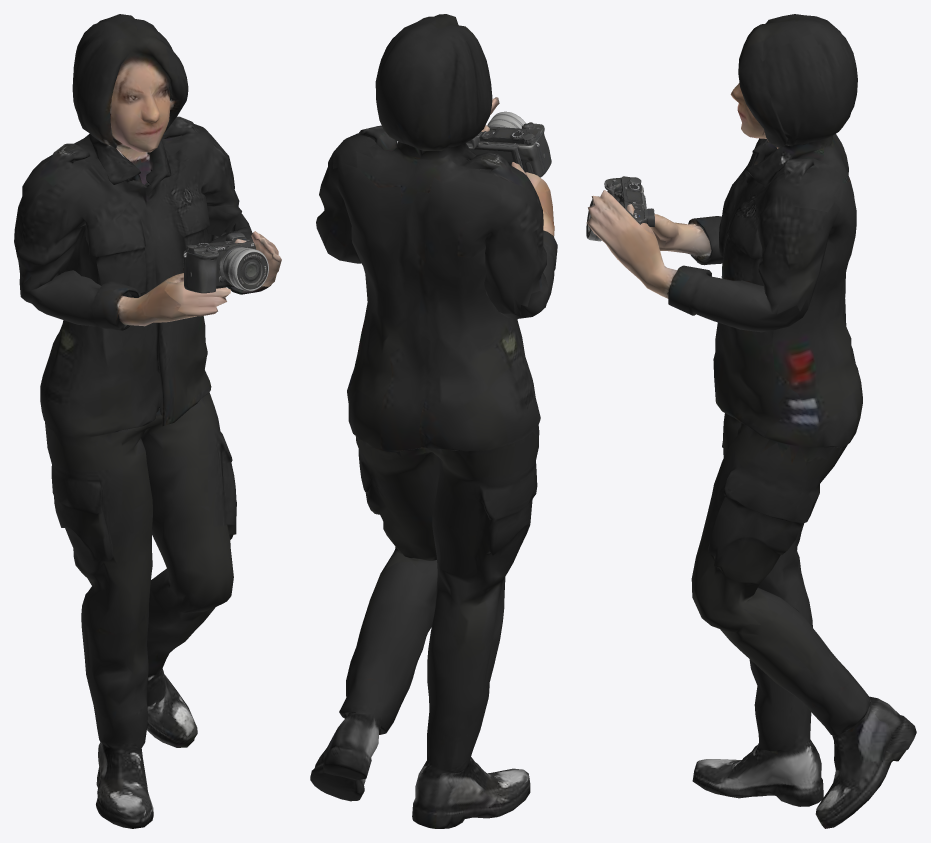
Rendered from polwan_humas_idle.glb.
The picture shows the model from 3 angles, left to right: view 1: azimuth 30°, elevation 25°; view 2: azimuth 150°, elevation 25°; view 3: azimuth 270°, elevation 25°; orthographic projection. The views are drawn at different scales.
Parts seen in each view (by area): view 1: tripo_node_a2126b0e-582a-493f-b6e2-f8663286ce1a; view 2: tripo_node_a2126b0e-582a-493f-b6e2-f8663286ce1a; view 3: tripo_node_a2126b0e-582a-493f-b6e2-f8663286ce1a.
Part boxes in pixels (x1,y1,x2,y2): tripo_node_a2126b0e-582a-493f-b6e2-f8663286ce1a: (14,14,281,828); tripo_node_a2126b0e-582a-493f-b6e2-f8663286ce1a: (310,14,557,828); tripo_node_a2126b0e-582a-493f-b6e2-f8663286ce1a: (586,14,916,828).
Size of the model in its own units: 0.3024 by 0.9924 by 0.3799.
2 materials, 2 textured.
